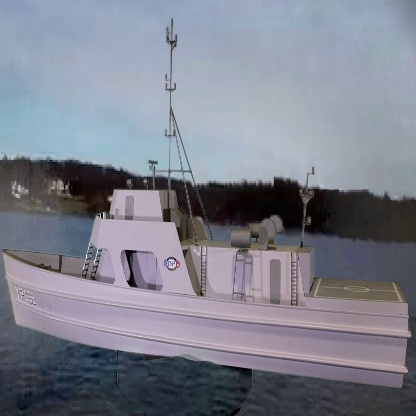YP689: (7, 24, 409, 393)
